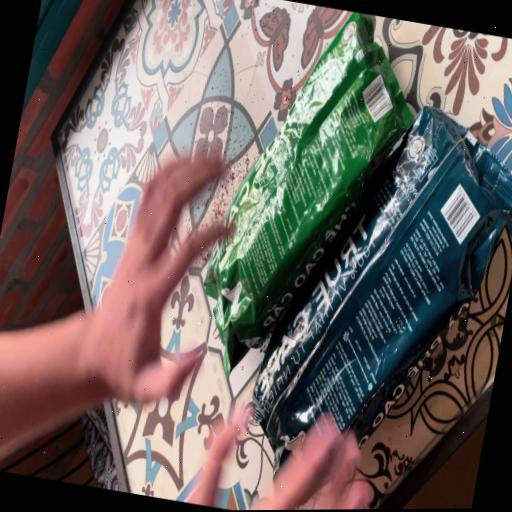cafe_hat: (251, 107, 512, 470)
cafe_xay: (204, 10, 413, 373)
